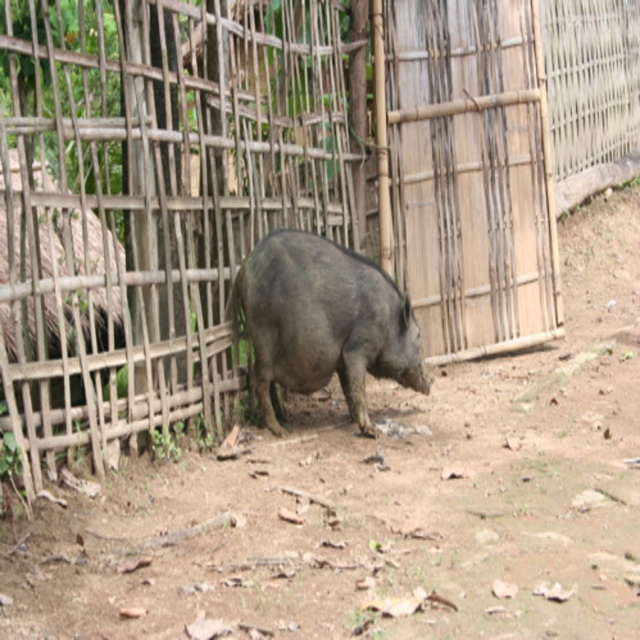Pig: (234, 229, 435, 438)
